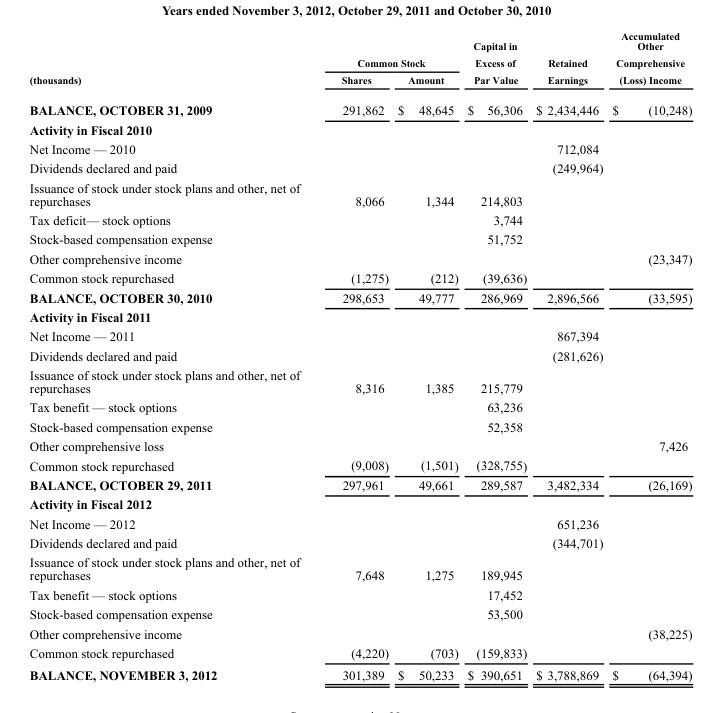table: (28, 29, 691, 681)
table column: (28, 29, 320, 681), (607, 29, 691, 681), (530, 29, 607, 681), (320, 29, 392, 681), (392, 29, 462, 681), (462, 29, 530, 681)
table column header: (28, 29, 691, 93)
table projected row header: (28, 306, 691, 326), (28, 119, 691, 138), (28, 494, 691, 513)
table row: (28, 29, 691, 70), (28, 177, 691, 210), (28, 365, 691, 397), (28, 552, 691, 584), (28, 93, 691, 119), (28, 70, 691, 93), (28, 642, 691, 663), (28, 138, 691, 158), (28, 248, 691, 268), (28, 306, 691, 326), (28, 345, 691, 365), (28, 416, 691, 436), (28, 474, 691, 494), (28, 532, 691, 552), (28, 584, 691, 604), (28, 119, 691, 138), (28, 158, 691, 177), (28, 210, 691, 229), (28, 229, 691, 248), (28, 268, 691, 287), (28, 287, 691, 306), (28, 326, 691, 345), (28, 397, 691, 416), (28, 436, 691, 455), (28, 455, 691, 474), (28, 494, 691, 513), (28, 513, 691, 532), (28, 604, 691, 623), (28, 623, 691, 642), (28, 663, 691, 681)
table spanning cell: (28, 29, 320, 93), (320, 29, 462, 70), (607, 29, 691, 93), (530, 29, 607, 93), (462, 29, 530, 93)
